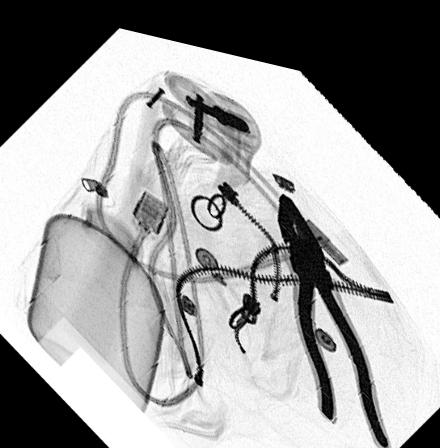Pliers: (275, 177, 391, 435)
